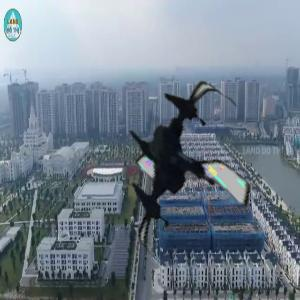drone: (98, 83, 267, 252)
